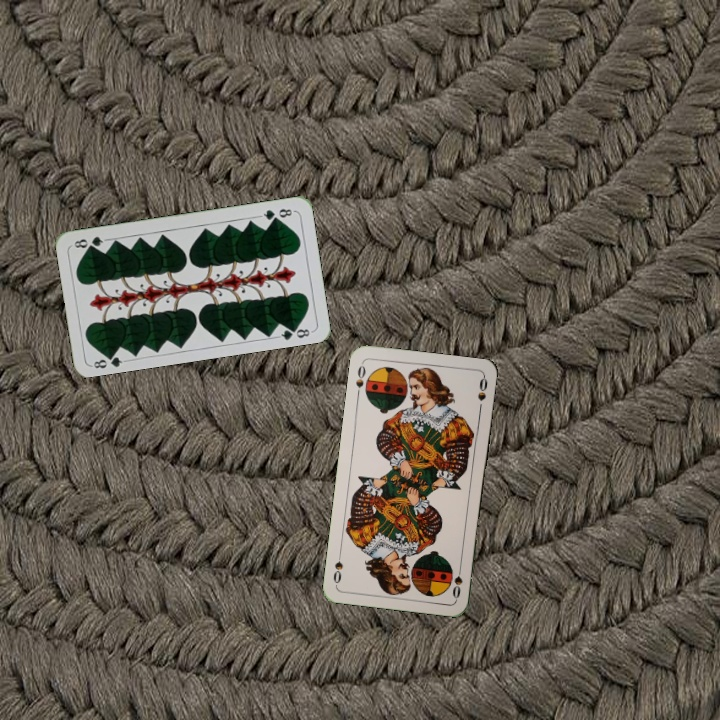G8: (88, 349, 128, 371), (256, 204, 297, 223)
SO: (448, 560, 465, 601), (352, 359, 368, 399)
